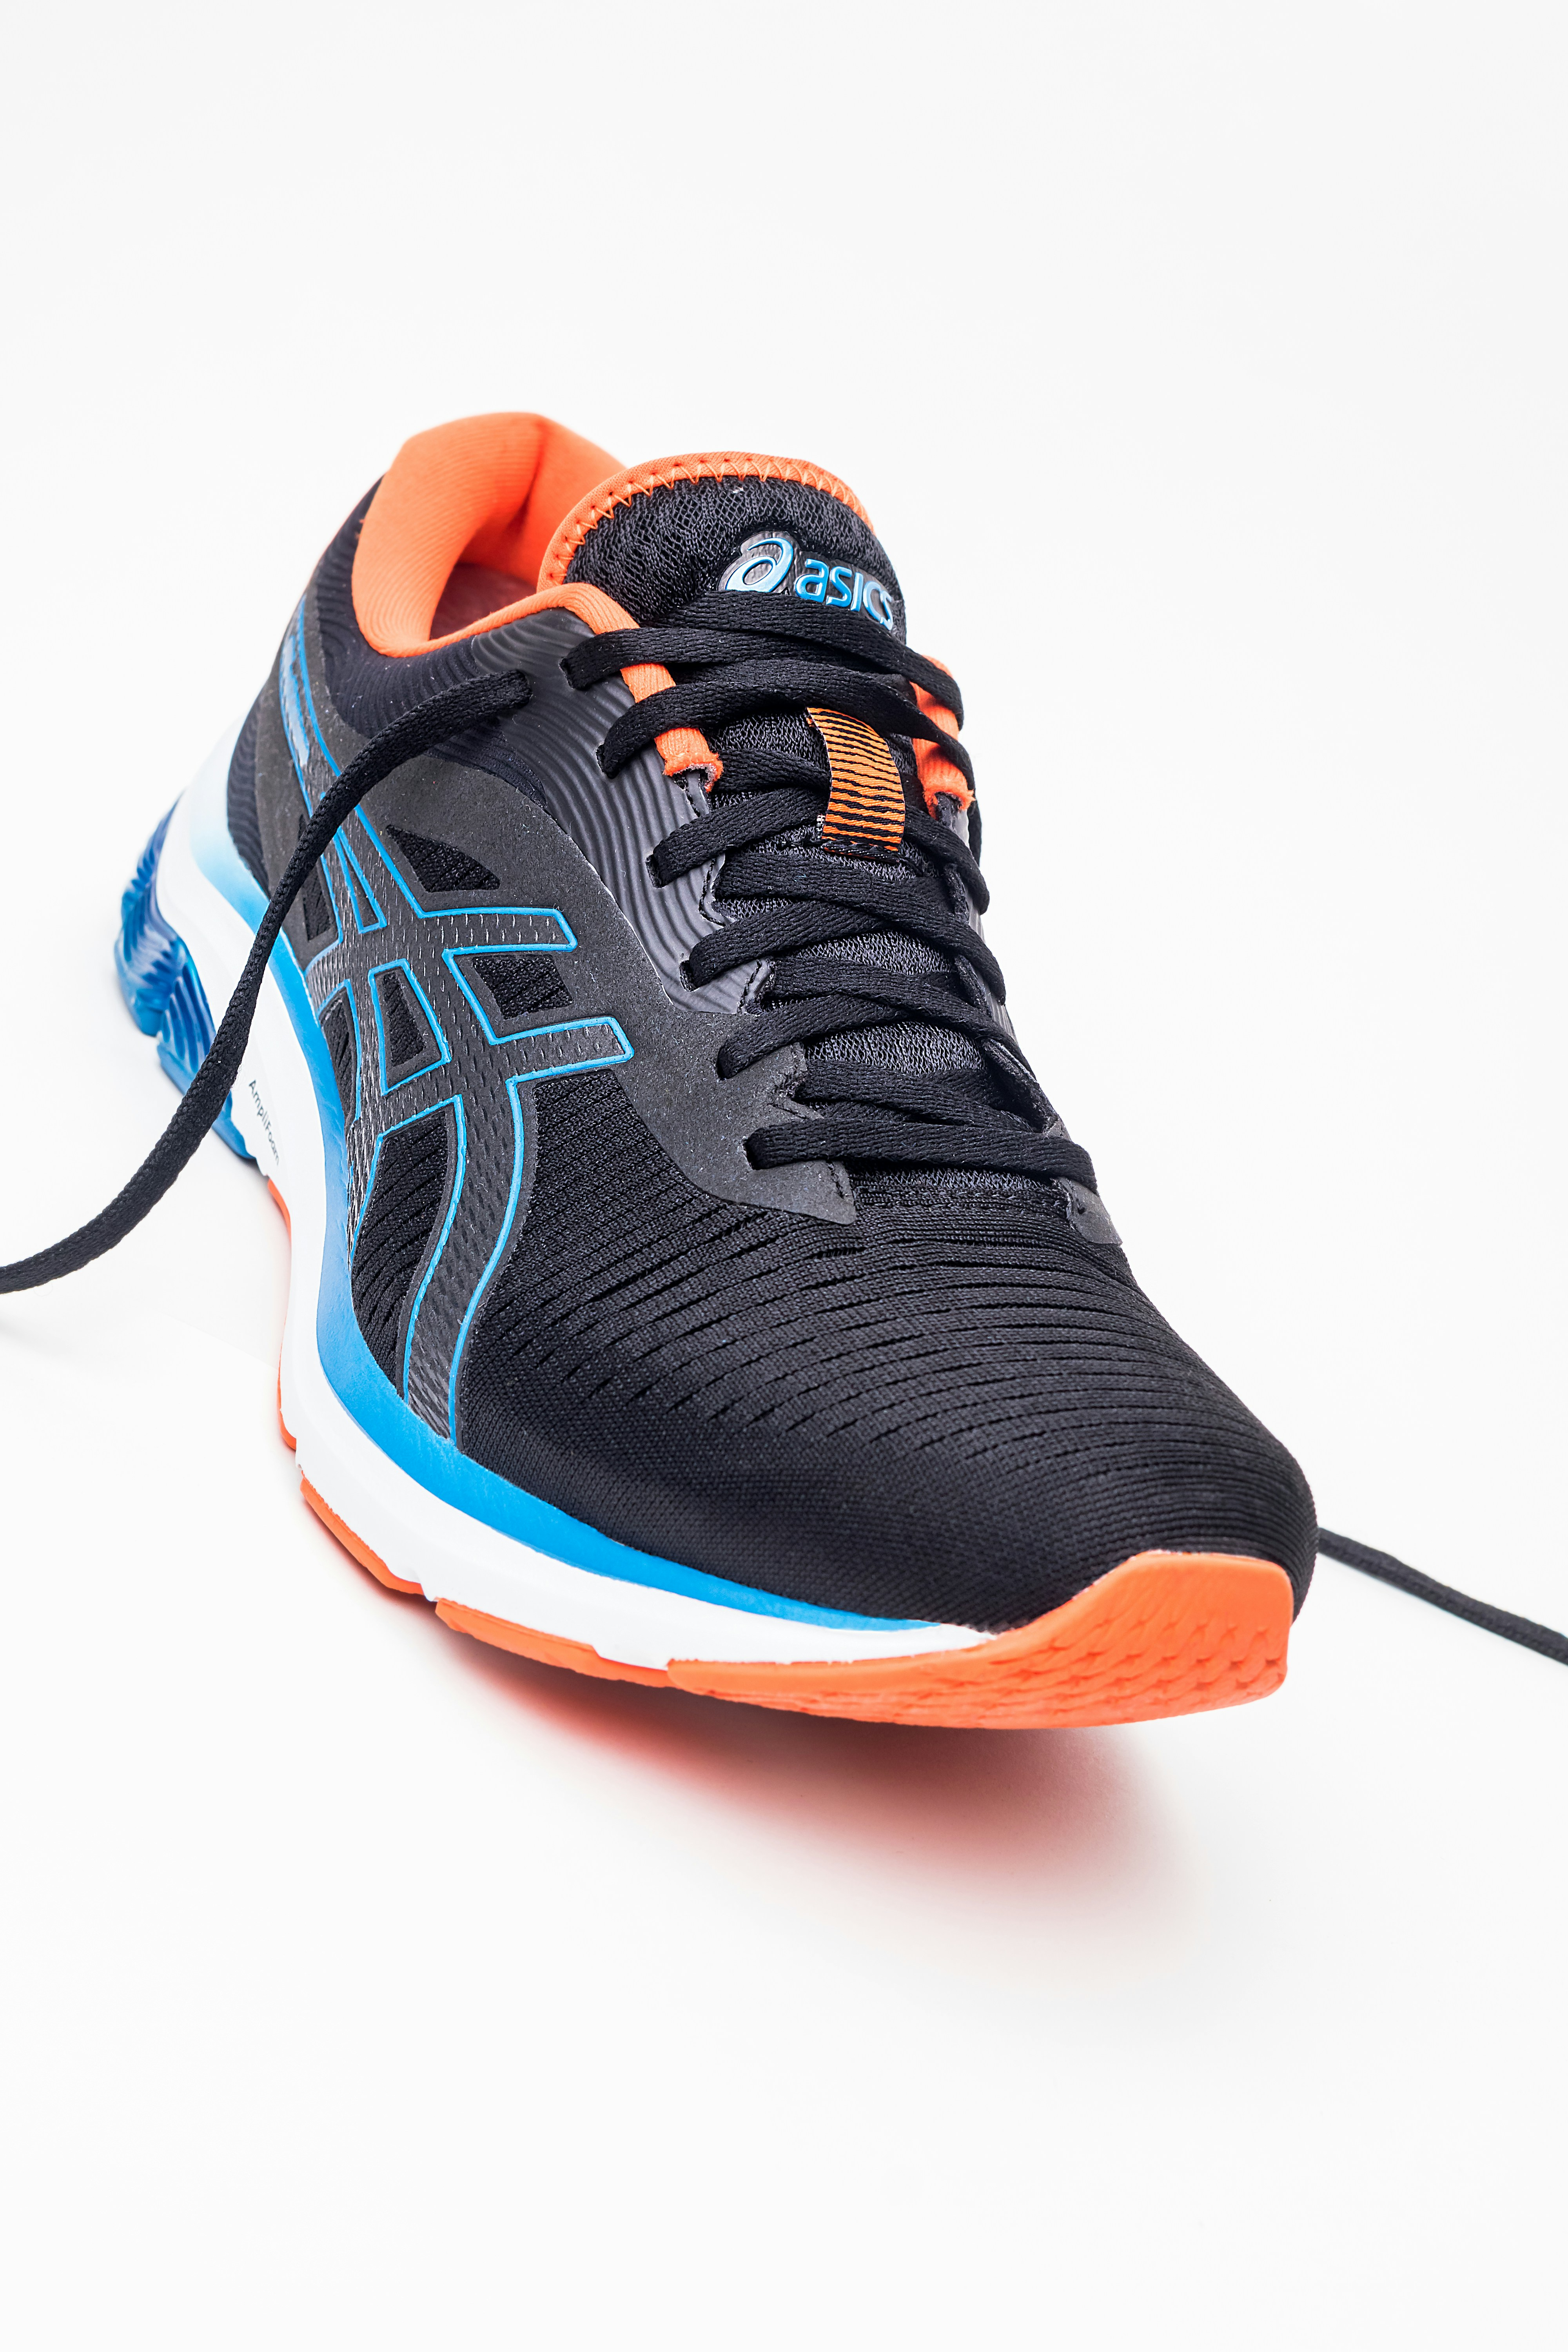Footwear: (54, 382, 1346, 1757)
